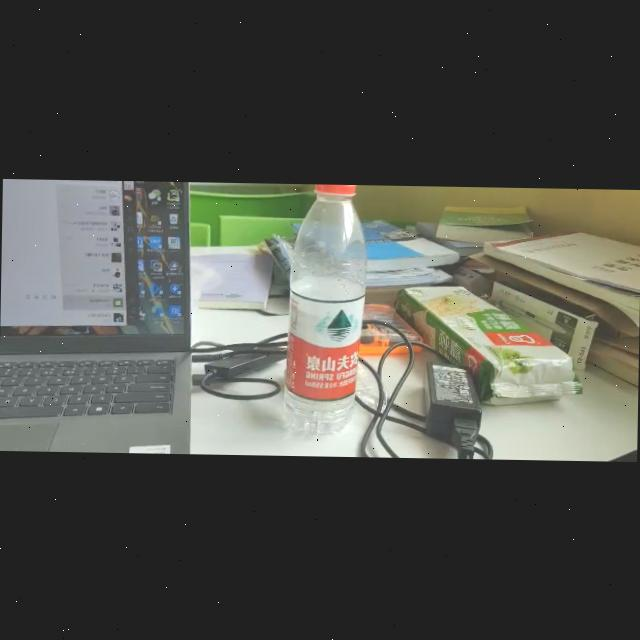trash: (281, 184, 369, 438)
